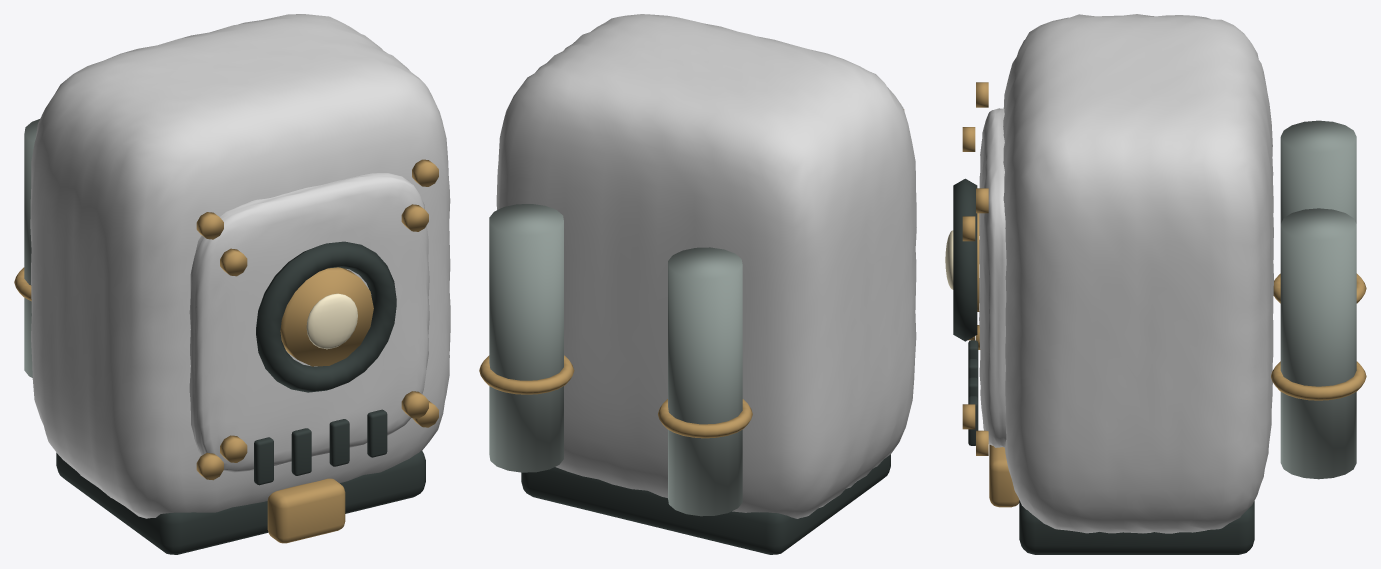
File: hotshot-torso-0.glb
3 views of the same model, side by side, from view 1: azimuth 30°, elevation 25°; view 2: azimuth 150°, elevation 25°; view 3: azimuth 270°, elevation 25° (orthographic).
Visible parts, largest first — view 1: torso_clay, torso_mechanism, torso_brass, torso_lens, torso_steel; view 2: torso_clay, torso_steel, torso_mechanism, torso_brass; view 3: torso_clay, torso_steel, torso_mechanism, torso_brass.
Boxes of the visible parts, x1=… form: torso_clay: x1=30, y1=14, x2=450, y2=518; torso_mechanism: x1=56, y1=241, x2=425, y2=554; torso_brass: x1=14, y1=159, x2=438, y2=543; torso_lens: x1=306, y1=293, x2=357, y2=349; torso_steel: x1=24, y1=119, x2=39, y2=377; torso_clay: x1=496, y1=14, x2=916, y2=518; torso_steel: x1=489, y1=204, x2=742, y2=516; torso_mechanism: x1=521, y1=454, x2=890, y2=554; torso_brass: x1=479, y1=109, x2=904, y2=438; torso_clay: x1=979, y1=14, x2=1273, y2=533; torso_steel: x1=1280, y1=120, x2=1356, y2=479; torso_mechanism: x1=953, y1=178, x2=1254, y2=554; torso_brass: x1=962, y1=82, x2=1366, y2=507.
Bounding box in the file's own units: 0.9865 × 1.19 × 1.05.
